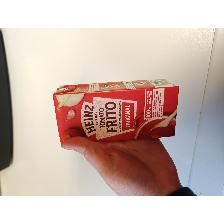Tomatensauce: (52, 78, 180, 146)
